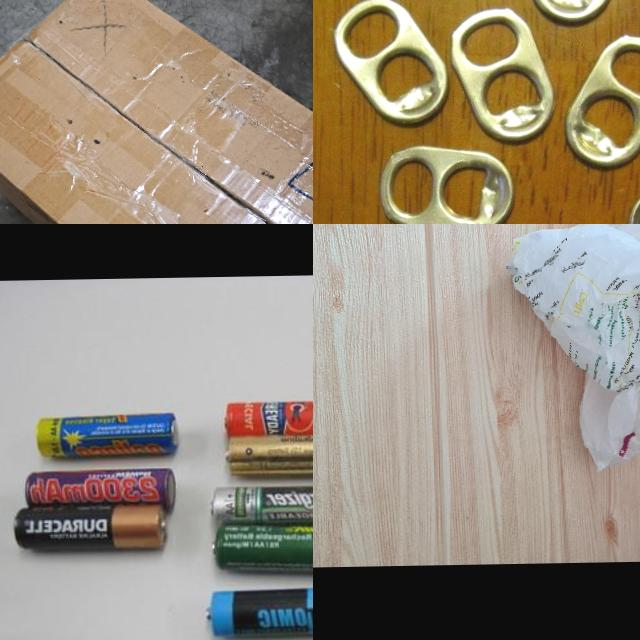aba de lata: (448, 4, 558, 145), (332, 0, 450, 128), (374, 141, 515, 224), (560, 31, 640, 168)
bateria: (13, 502, 167, 552), (25, 468, 176, 516), (35, 412, 180, 460), (204, 583, 313, 639), (207, 524, 313, 577), (208, 484, 313, 527), (223, 433, 313, 480), (223, 399, 313, 438)
papelão: (0, 0, 313, 224)
sacola plástica: (502, 224, 640, 474)
